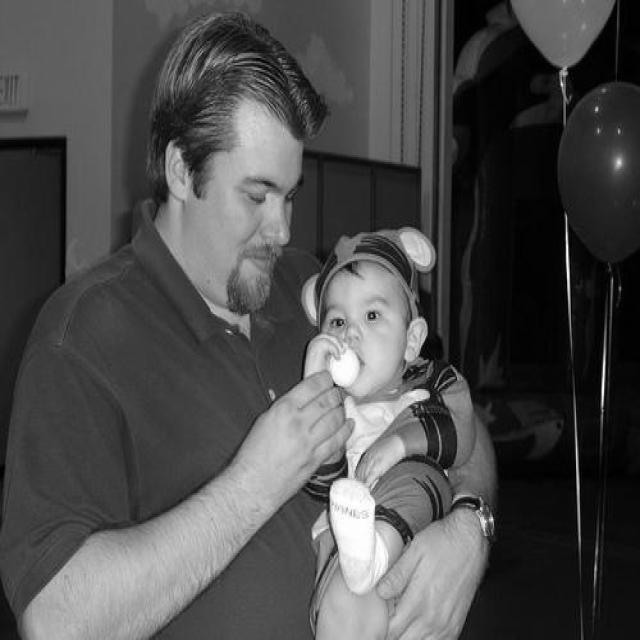ping-pong-ball: (329, 344, 361, 386)
